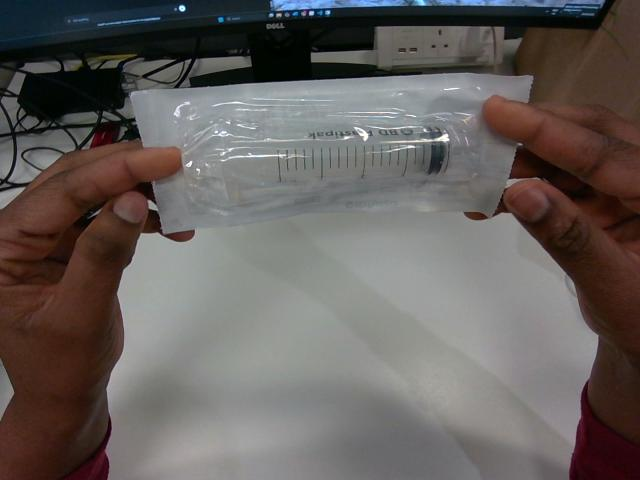syringe: (132, 74, 531, 232)
